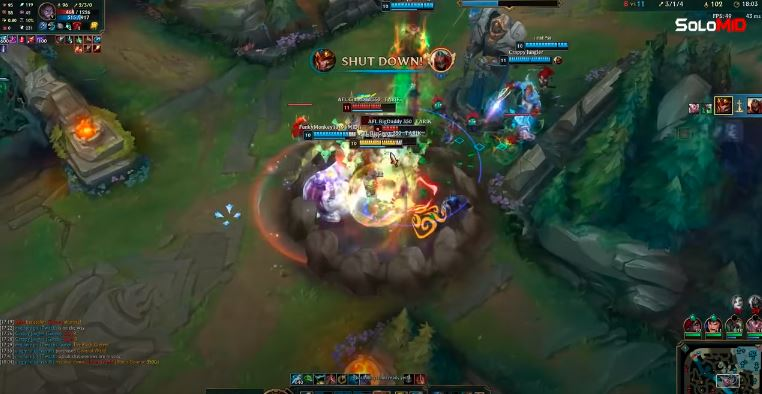bar: (372, 123, 428, 136), (347, 138, 404, 150), (379, 1, 437, 12), (497, 54, 553, 65), (341, 101, 397, 112), (513, 40, 571, 50), (301, 129, 357, 139), (363, 135, 418, 145)
